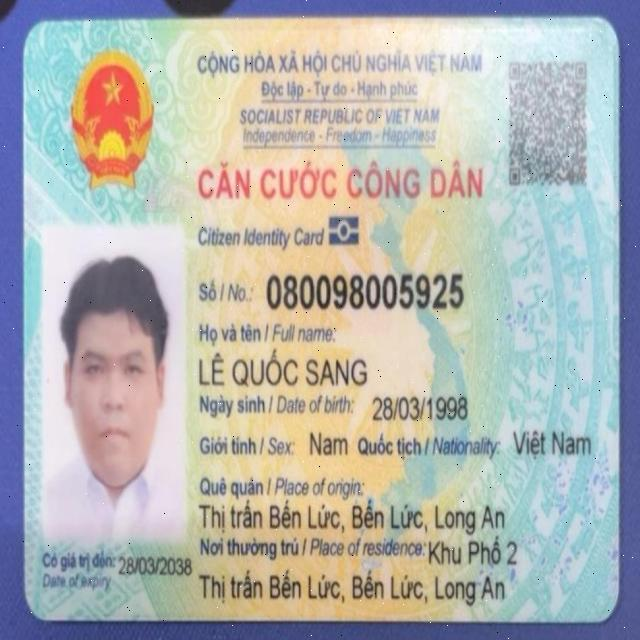current_place: (197, 568, 514, 612), (425, 531, 522, 570)
dob: (370, 392, 471, 427)
expire_date: (117, 550, 197, 582)
gender: (307, 424, 352, 459)
id: (265, 268, 466, 312)
name: (197, 349, 371, 390)
nationality: (508, 430, 595, 463)
origin_place: (197, 496, 512, 537)
